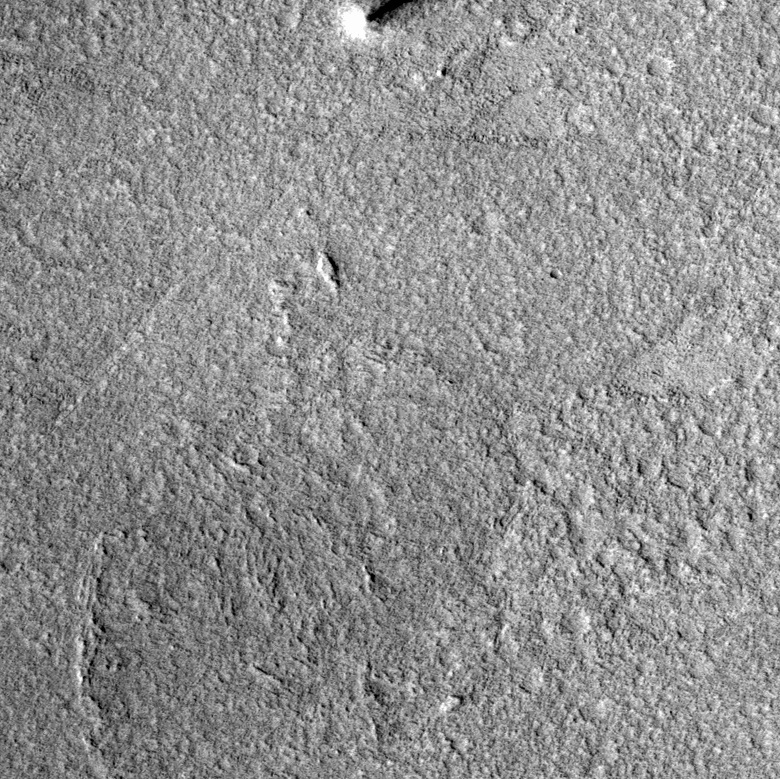dust_devil: (339, 1, 425, 41)
